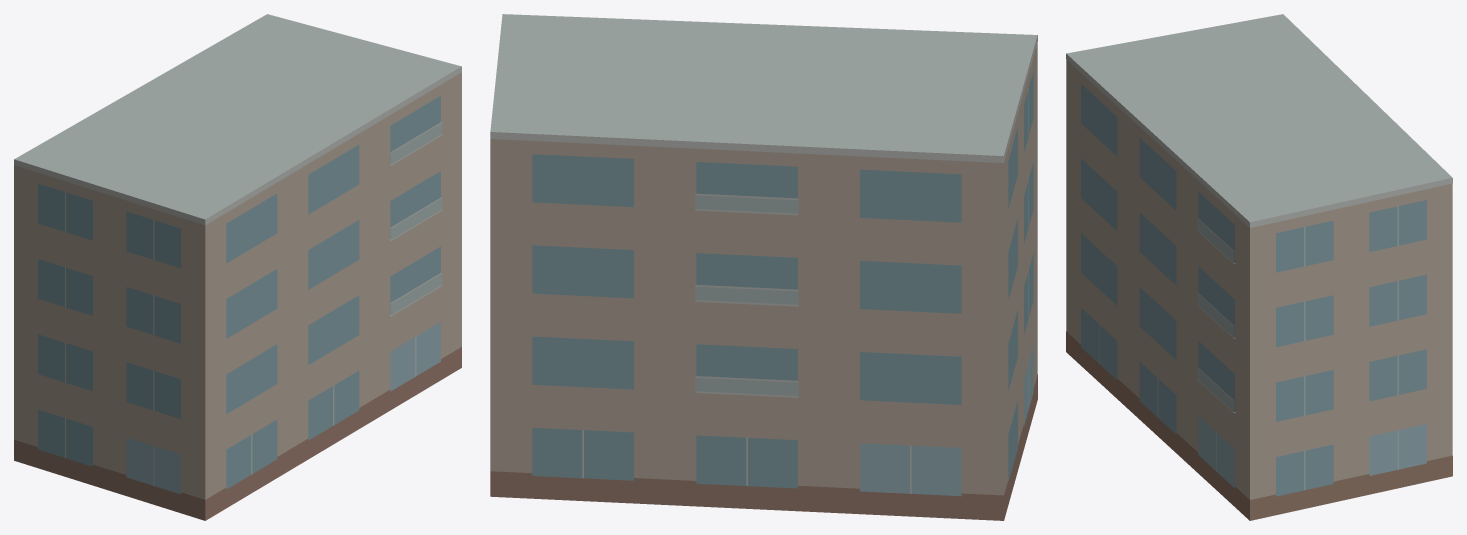
File: survey-upis-32749879.glb
3 views of the same model, side by side, from view 1: azimuth 30°, elevation 25°; view 2: azimuth 150°, elevation 25°; view 3: azimuth 270°, elevation 25° (orthographic). The views are drawn at different scales.
Parts seen in each view (by area): view 1: survey-upis-32749879.tmp; view 2: survey-upis-32749879.tmp; view 3: survey-upis-32749879.tmp.
Boxes of the visible parts, <box> form: survey-upis-32749879.tmp: <box>14,14,461,520</box>; survey-upis-32749879.tmp: <box>490,14,1037,520</box>; survey-upis-32749879.tmp: <box>1066,14,1452,520</box>.
Size of the model in its own units: 19.02 by 12.7 by 14.92.
